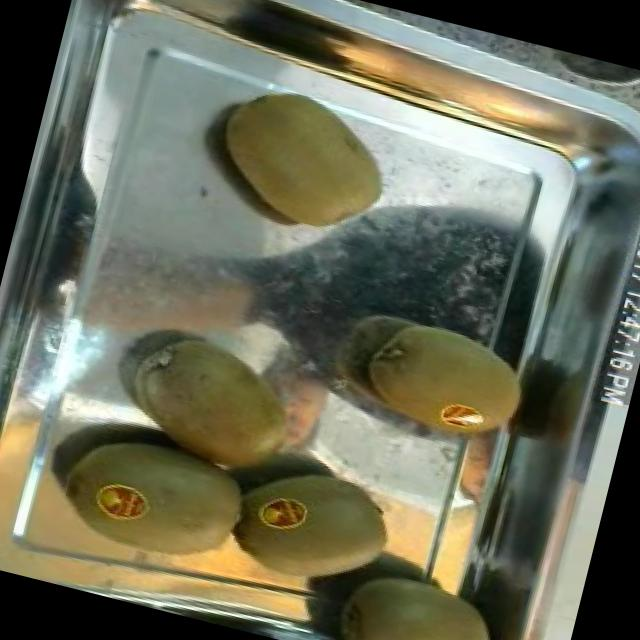Fruit: (98, 305, 356, 519), (198, 70, 410, 250), (218, 437, 412, 611), (340, 296, 538, 465), (315, 538, 525, 640)
